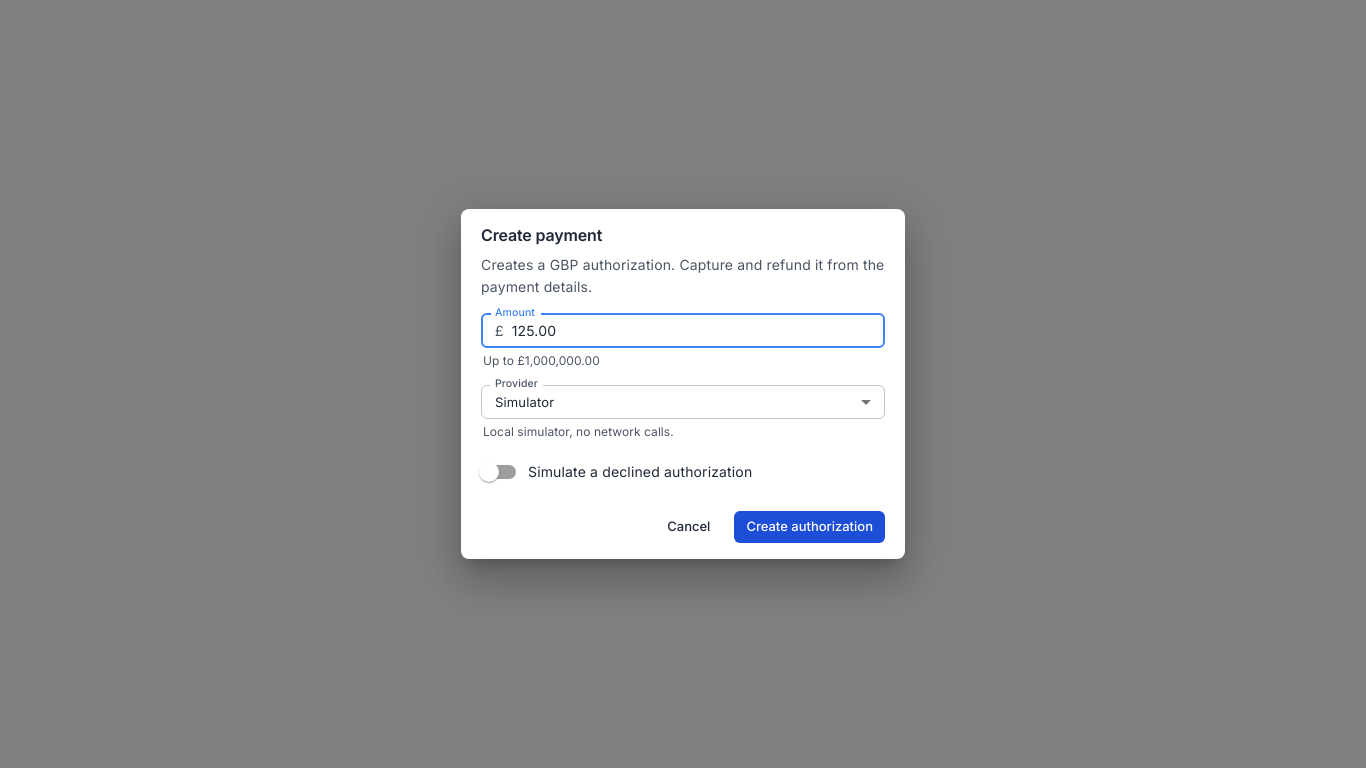
Create payment dialog › rejects an invalid amount without calling the API
Replace the text in the field labelled "Amount" with "abc" at (698,331), box [512,314,885,348]
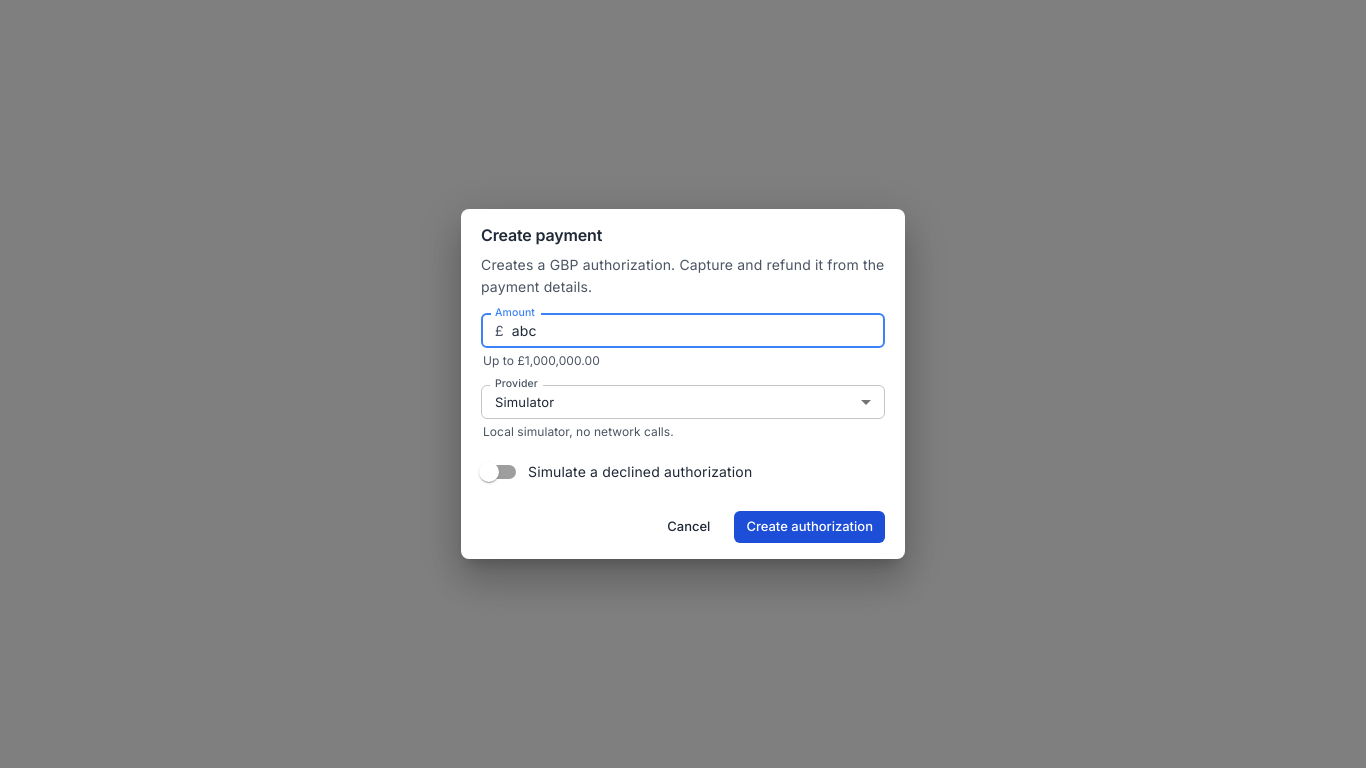
Click the button "Create authorization" at (810,527), box [734,511,885,543]
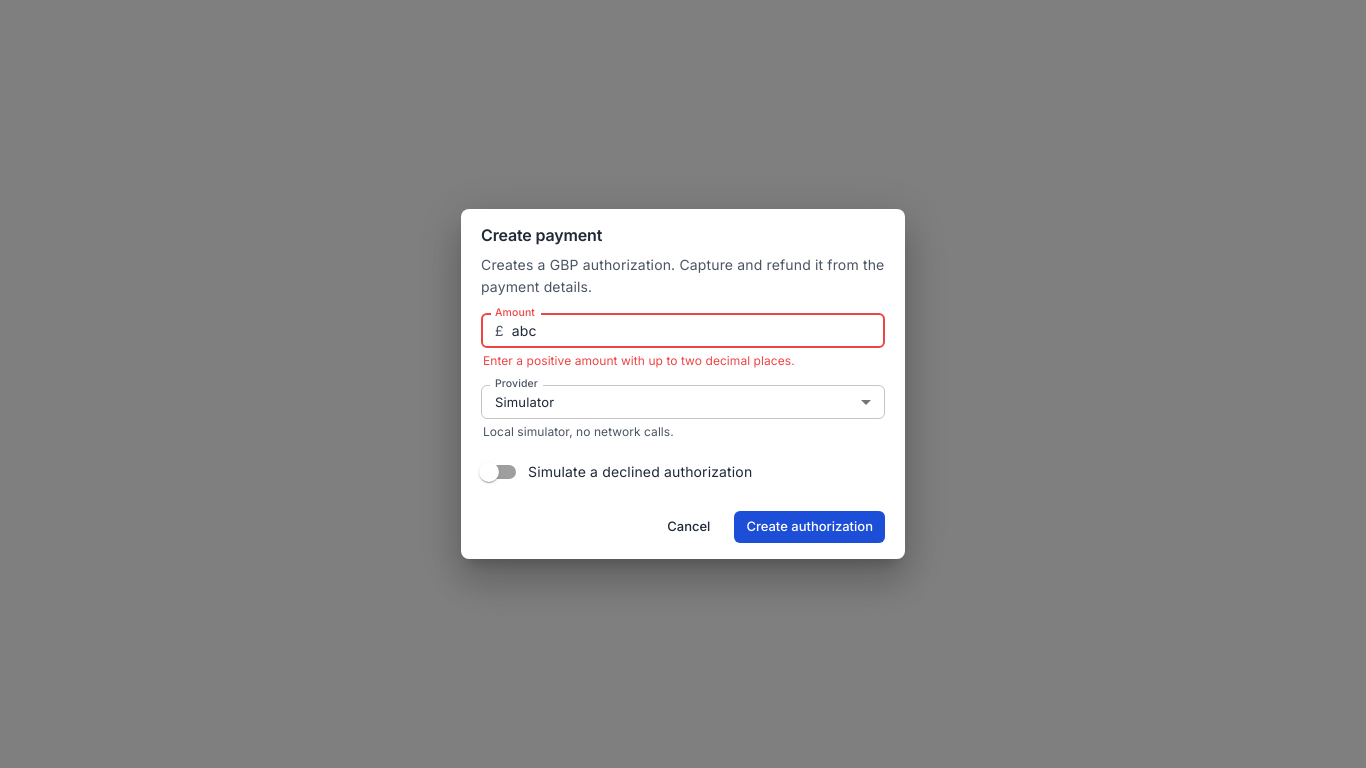
Expected: the text "Enter a positive amount with up to two decimal places." is shown, [483,353,795,368]
